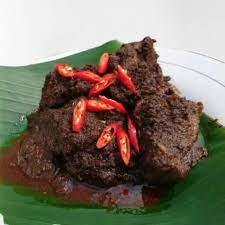rendang: (9, 35, 223, 212)
